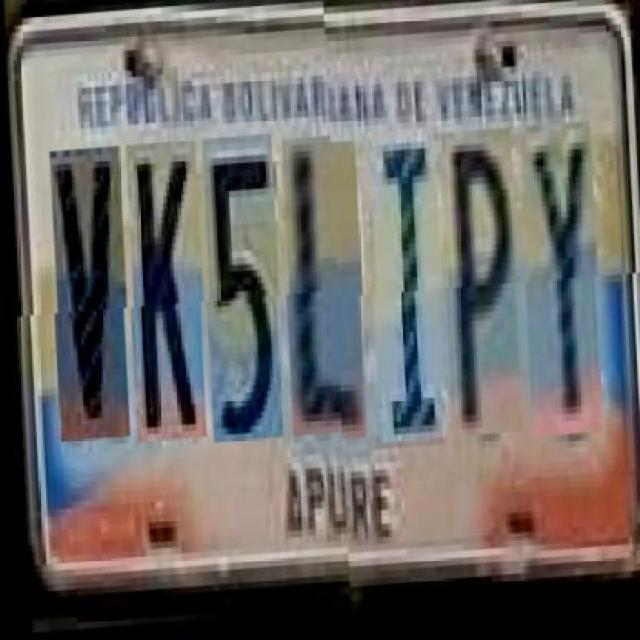5: (201, 145, 282, 453)
i: (366, 142, 445, 449)
k: (124, 150, 205, 452)
l: (280, 145, 365, 447)
p: (439, 136, 521, 444)
v: (48, 154, 129, 448)
y: (518, 132, 600, 446)
